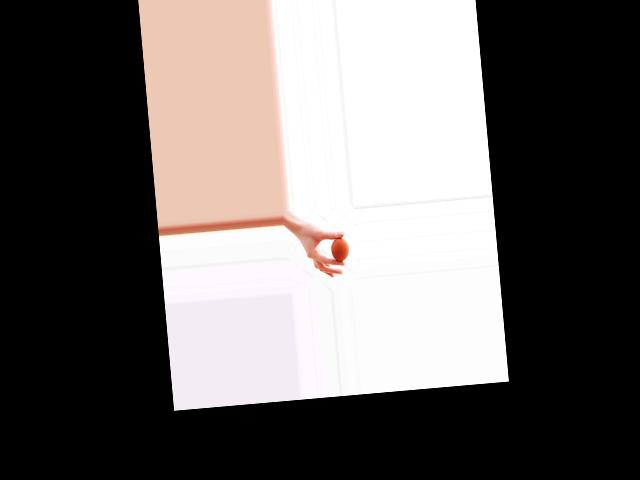egg: (330, 237, 350, 262)
